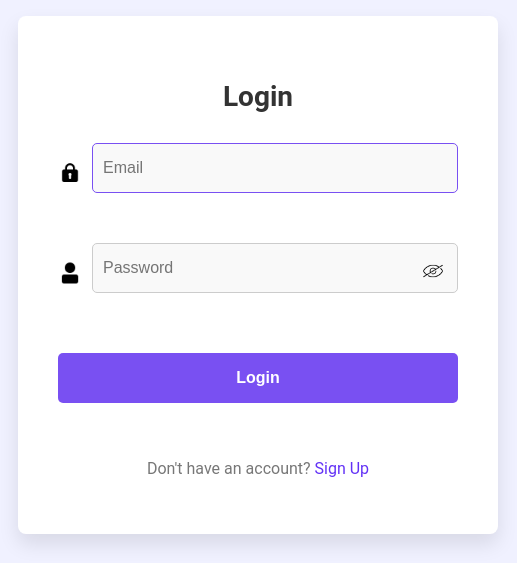
Test case: Login Component › disables the login button while loading
Type "test@example.com" into the field with placeholder "Email" at (275, 168), box [92,143,458,193]
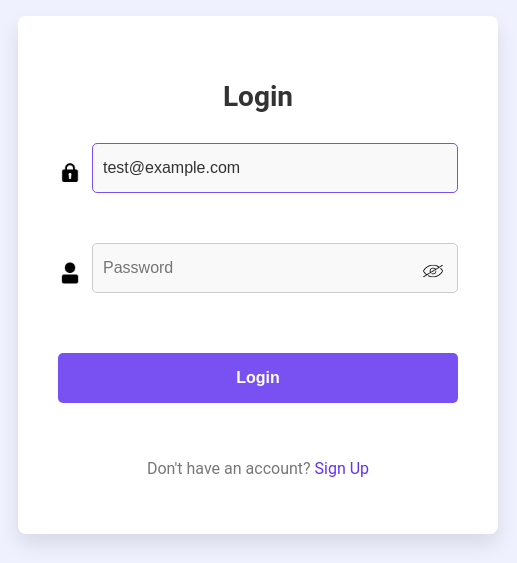
Type "password123" into the password field with placeholder "Password" at (275, 268), box [92,243,458,293]
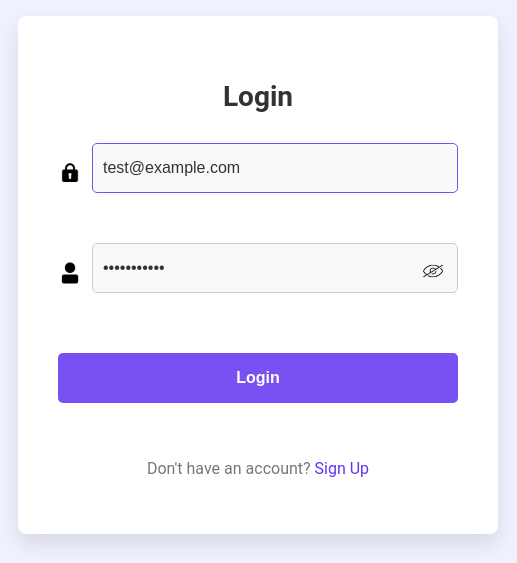
Click the button "Login" at (258, 378), box [58,353,458,403]
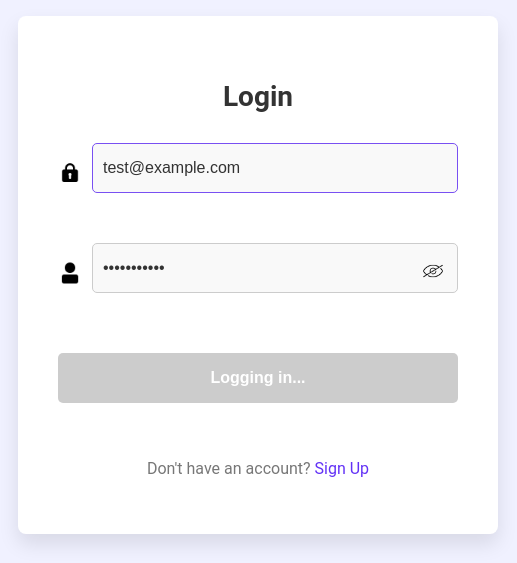
Expected: the button named "Login" is disabled, [58,353,458,403]
